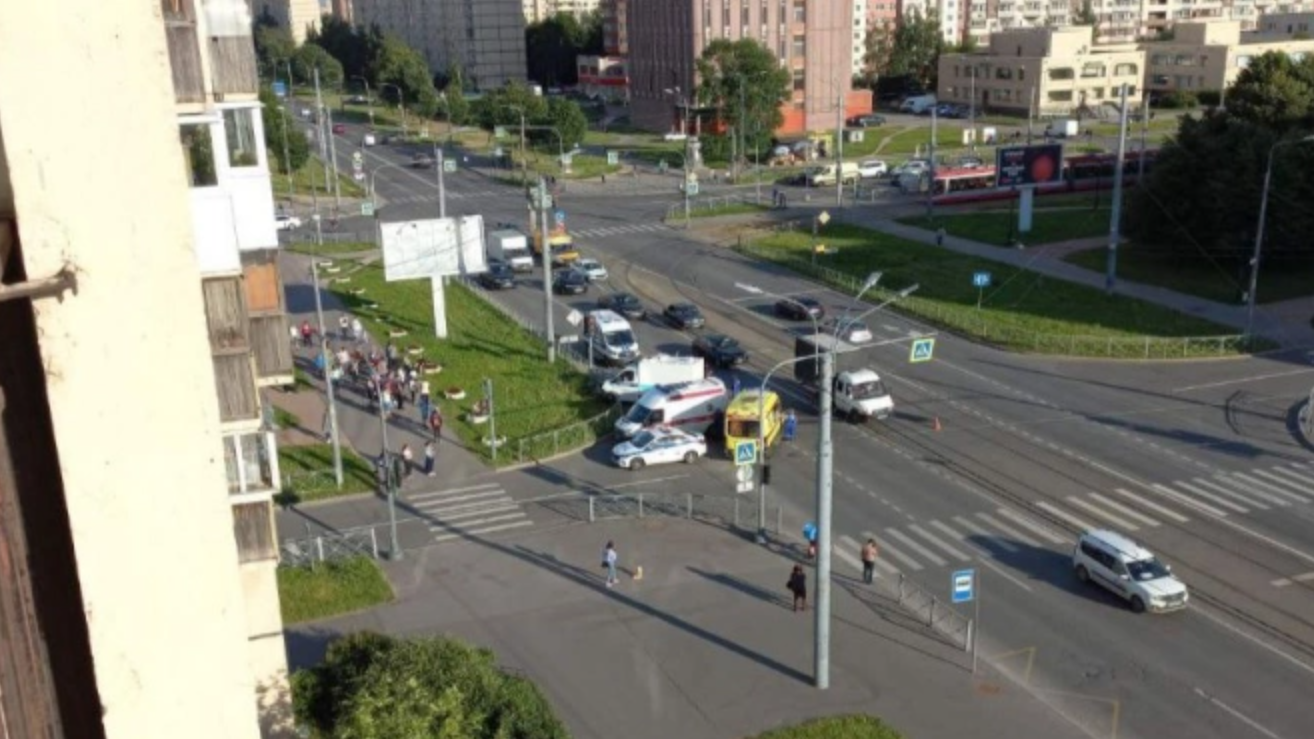ambulance: (612, 374, 729, 448), (749, 401, 809, 474)
bus: (578, 308, 642, 370)
car: (1072, 689, 1189, 739), (693, 345, 749, 384), (822, 315, 874, 348), (774, 293, 829, 323), (808, 159, 856, 189), (631, 290, 676, 322), (660, 300, 705, 330), (502, 274, 542, 306), (550, 270, 588, 295), (570, 257, 608, 281), (1043, 133, 1081, 155), (855, 158, 892, 180), (275, 212, 304, 234), (900, 96, 935, 113), (408, 152, 433, 173), (1194, 102, 1221, 120), (854, 112, 888, 126), (1212, 104, 1241, 119), (361, 133, 375, 147), (332, 137, 347, 149), (381, 133, 398, 143)
fire_truck: (598, 426, 721, 470)
pedestrian: (601, 688, 621, 736), (860, 685, 879, 732), (802, 667, 818, 708), (399, 440, 415, 479), (787, 712, 808, 739), (421, 440, 436, 477), (428, 422, 442, 454), (784, 424, 797, 457), (382, 387, 395, 416), (336, 346, 351, 368), (407, 370, 418, 400), (302, 320, 314, 345), (312, 352, 325, 374), (393, 363, 406, 385), (338, 315, 349, 340), (369, 348, 383, 367), (378, 347, 389, 370), (384, 358, 396, 377), (377, 317, 386, 341), (421, 381, 430, 403)
truck: (782, 334, 909, 425), (588, 346, 718, 412), (489, 229, 536, 275), (533, 227, 580, 267)
